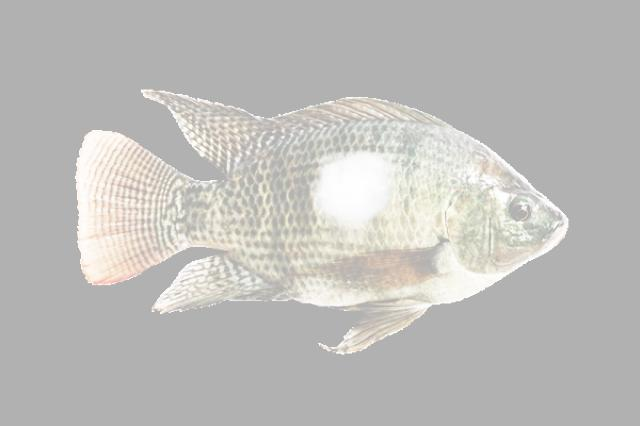Fungal Disease -Saprolegniasis-: (76, 90, 568, 354), (76, 90, 567, 353)
